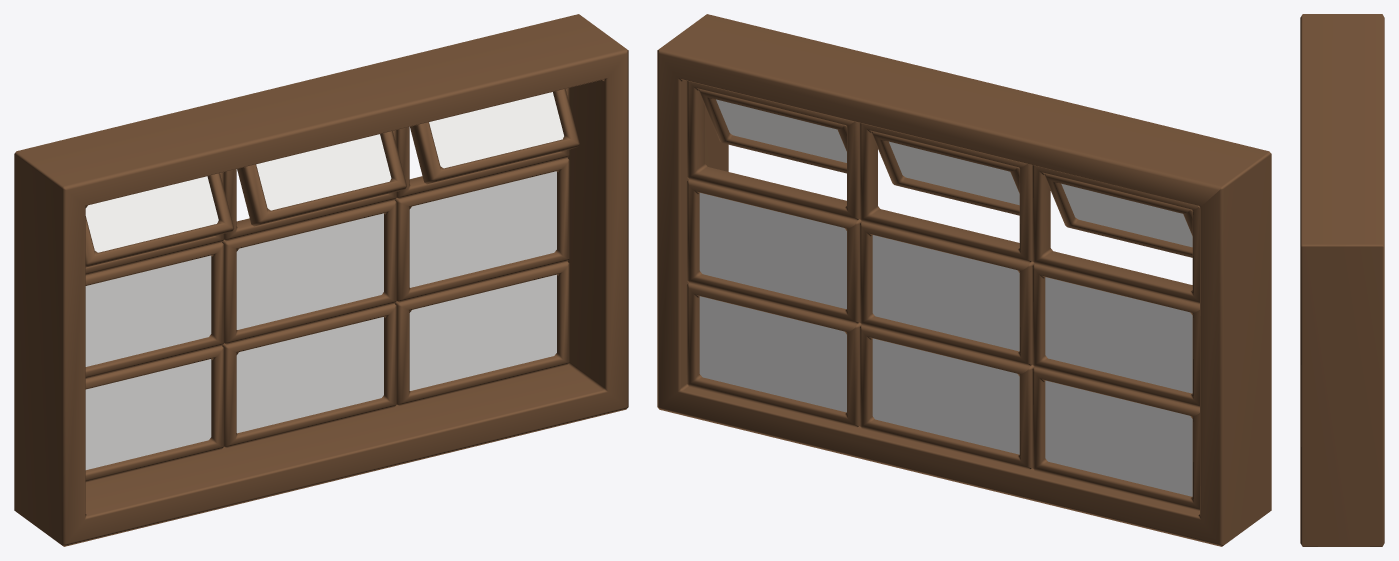
Rendered from Window_8.glb.
The picture shows the model from 3 angles, left to right: view 1: azimuth 30°, elevation 25°; view 2: azimuth 150°, elevation 25°; view 3: azimuth 270°, elevation 25°; orthographic projection. The views are drawn at different scales.
Visible parts, largest first — view 1: Window_16; view 2: Window_16; view 3: Window_16.
Boxes of the visible parts, bbox=[...] form: Window_16: bbox=[14, 14, 628, 546]; Window_16: bbox=[657, 14, 1271, 546]; Window_16: bbox=[1300, 14, 1384, 546].
Size of the model in its own units: 3.29 by 2 by 0.504.
2 materials, 2 textured.
